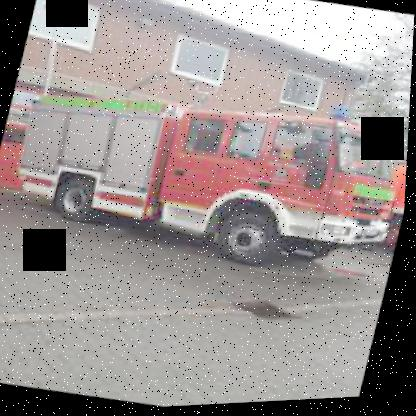emergency: (0, 59, 412, 306)
